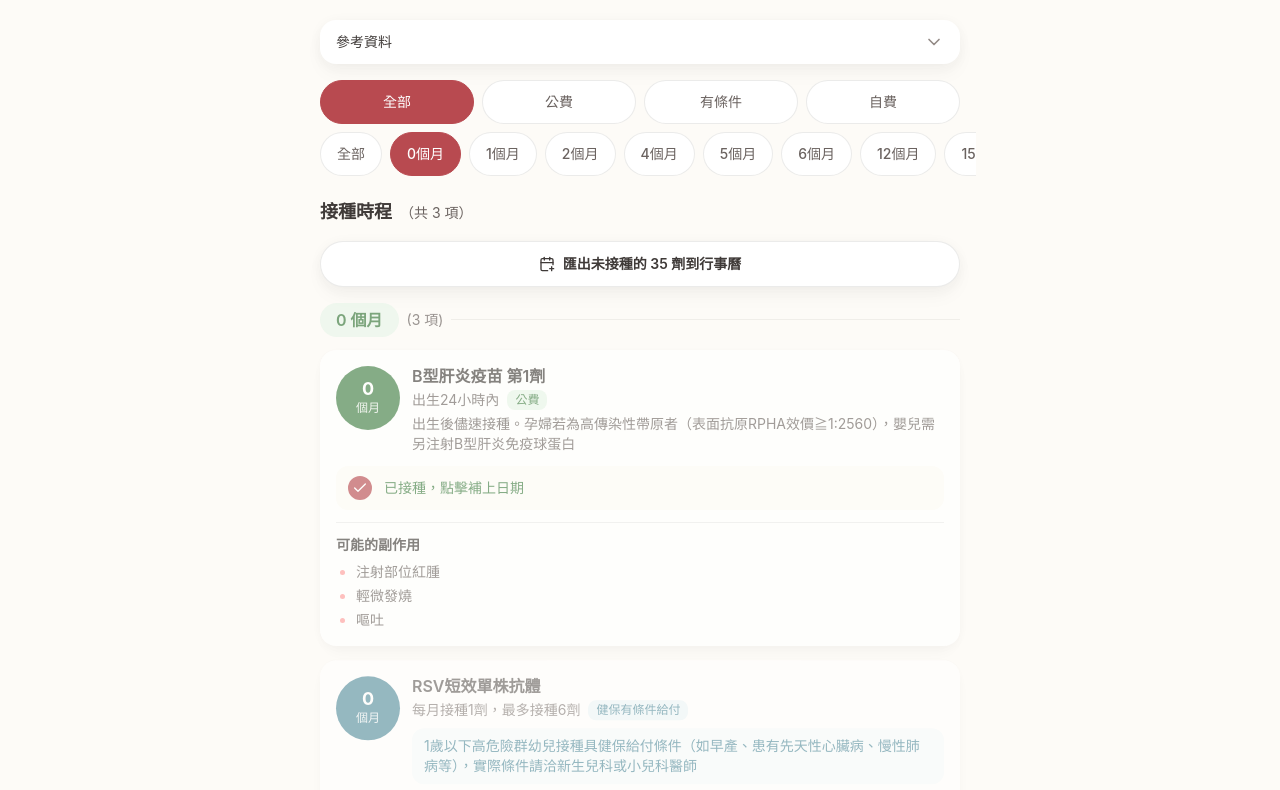
Test: 已經接種的那一劑 › 只勾了接種、沒填日期的那一劑，還是算已接種
The width and height of the screenshot is (1280, 790).
Expected: the button "已接種，點擊補上日期" is shown, [384,466,932,510]
Click the button named "B型肝炎疫苗 第1劑：修改接種日期". click: (360, 488)
box: [338,466,382,510]
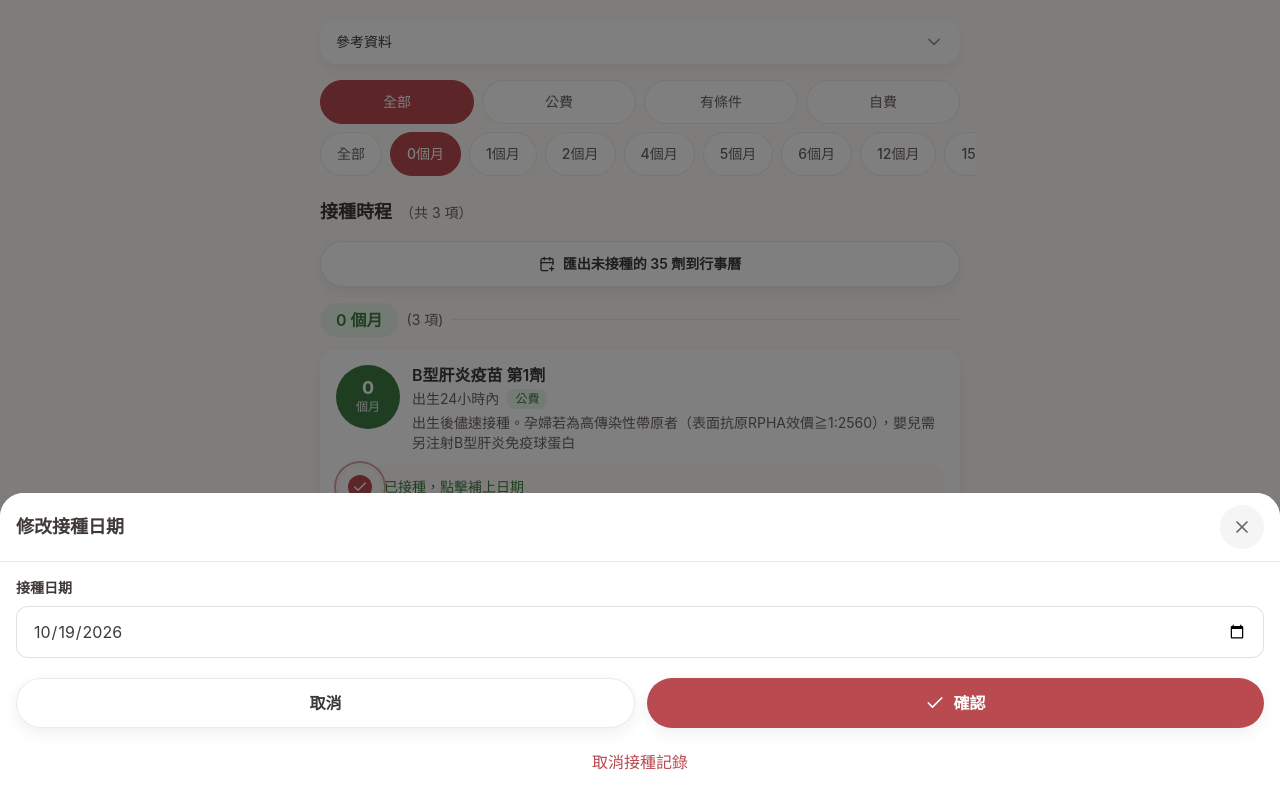
Now the heading "修改接種日期" is shown, box [16,515,124,539]
Now the button "取消接種記錄" is shown, box [16,740,1264,784]
